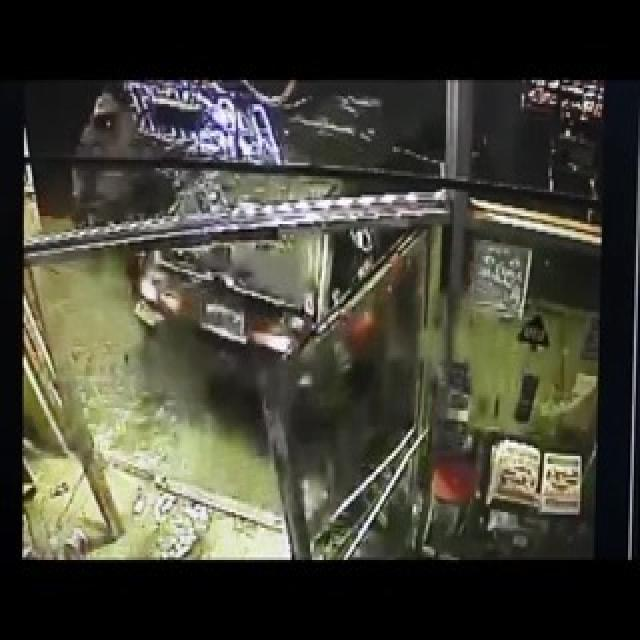burglary: (93, 102, 404, 396)
